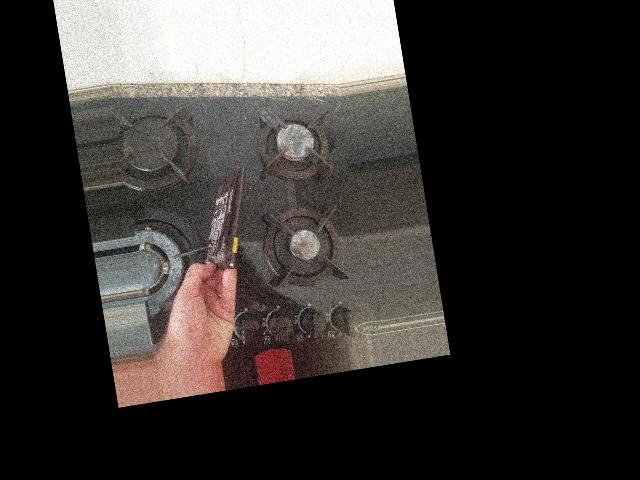chocolate: (187, 164, 264, 282)
